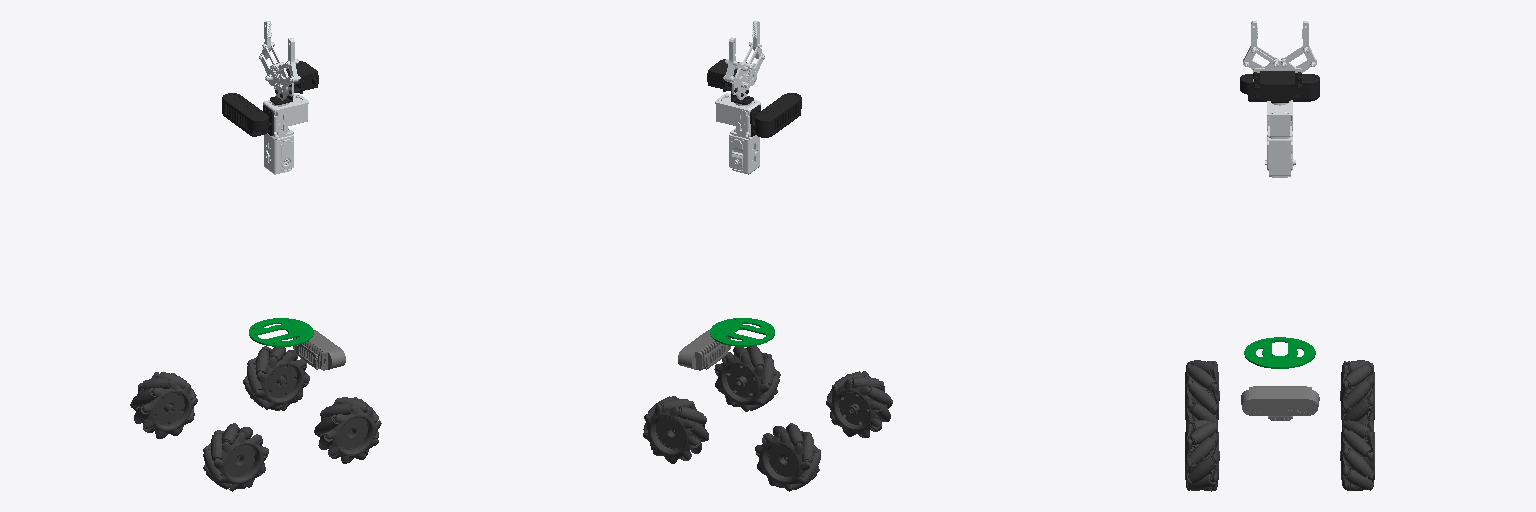
--- What the picture shows (computed from the rendered views, not written in the file) ---
Views: 3 orthographic renders of the robot side by side, from view 1: azimuth 30°, elevation 25°; view 2: azimuth 150°, elevation 25°; view 3: azimuth 270°, elevation 25°.
Robot: M3Pro — 24 links, 23 joints (11 revolute, 5 continuous, 7 fixed); root link base_footprint; default pose: every joint at zero.
Links seen in each view (by area): view 1: rwheel2, lwheel2, rwheel1, lwheel1, arm4, DCW2, arm_base_Link, Camera, arm5; view 2: lwheel2, lwheel1, rwheel2, rwheel1, arm4, DCW2, arm_base_Link, Camera, arm5; view 3: lwheel1, rwheel1, Camera, rwheel2, lwheel2, arm4, arm_base_Link, arm5, DCW2.
Boxes of the visible links, x1,y1,x2,y2 form: rwheel2: [203, 423, 268, 491]; lwheel2: [130, 372, 197, 438]; rwheel1: [314, 397, 381, 463]; lwheel1: [243, 346, 309, 410]; arm4: [263, 94, 308, 174]; DCW2: [222, 93, 273, 136]; arm_base_Link: [249, 318, 313, 346]; Camera: [293, 330, 345, 370]; arm5: [270, 61, 318, 104]; lwheel2: [755, 423, 820, 491]; lwheel1: [643, 396, 708, 463]; rwheel2: [826, 371, 892, 437]; rwheel1: [714, 346, 780, 411]; arm4: [715, 93, 760, 174]; DCW2: [750, 93, 801, 137]; arm_base_Link: [710, 318, 774, 346]; Camera: [678, 330, 730, 370]; arm5: [707, 59, 753, 104]; lwheel1: [1340, 420, 1374, 490]; rwheel1: [1185, 420, 1219, 491]; Camera: [1241, 386, 1319, 420]; rwheel2: [1185, 360, 1219, 425]; lwheel2: [1340, 360, 1374, 423]; arm4: [1265, 100, 1295, 177]; arm_base_Link: [1244, 337, 1315, 368]; arm5: [1253, 71, 1301, 102]; DCW2: [1240, 74, 1319, 101].
Bounding box of the posed robot: 0.239 × 0.2124 × 0.5562 m (x, y, z).
Meshes: 20 distinct files referenced, 16 mesh visuals loaded (16 binary STL); not drawn: 4 (reference not matched to a file when rendering).

robot.urdf — M3Pro:
<?xml version="1.0" encoding="utf-8"?>
<!-- This URDF was automatically created by SolidWorks to URDF Exporter! Originally created by Stephen Brawner ([email redacted]) 
     Commit Version: 1.6.0-1-g15f4949  Build Version: 1.6.7594.29634
     For more information, please see http://wiki.ros.org/sw_urdf_exporter -->
<robot
  name="M3Pro">
  
  <link name="base_footprint">
        <visual>
            <geometry>
                <box size="0.001 0.001 0.001"/>
            </geometry>
        </visual>
  </link>
    
  <joint name="link2footprint" type="fixed">
        <parent link="base_footprint" />
        <child link="base_link" />
        <origin xyz="0 0 0" rpy="0 0 0"/>
  </joint>
  
  <link
    name="base_link">
    <inertial>
      <origin
        xyz="-0.0230945655800945 -0.000624366433481225 0.0924263074305092"
        rpy="0 0 0" />
      <mass
        value="0.870994544286568" />
      <inertia
        ixx="0.000924360334406296"
        ixy="1.83790425775432E-06"
        ixz="-6.57330050239333E-05"
        iyy="0.000965356496722674"
        iyz="4.19061203028733E-07"
        izz="0.00166592475388463" />
    </inertial>
    <visual>
      <origin
        xyz="0 0 0"
        rpy="0 0 0" />
      <geometry>
        <mesh
          filename="package://M3Pro/meshes/base_link.STL" />
      </geometry>
      <material
        name="">
        <color
          rgba="0.501960784313725 0.501960784313725 0.501960784313725 1" />
      </material>
    </visual>
    <collision>
      <origin
        xyz="0 0 0"
        rpy="0 0 0" />
      <geometry>
        <mesh
          filename="package://M3Pro/meshes/base_link.STL" />
      </geometry>
    </collision>
  </link>
  <link
    name="arm1">
    <inertial>
      <origin
        xyz="2.13576742485247E-05 -2.28857785706467E-05 0.0108850983929158"
        rpy="0 0 0" />
      <mass
        value="0.0244386203628613" />
      <inertia
        ixx="4.13079555955957E-06"
        ixy="-1.72852152063151E-08"
        ixz="-1.39537126643453E-11"
        iyy="3.52401933966849E-06"
        iyz="-4.29462638561802E-15"
        izz="6.04483581225878E-06" />
    </inertial>
    <visual>
      <origin
        xyz="0 0 0"
        rpy="0 0 0" />
      <geometry>
        <mesh
          filename="package://M3Pro/meshes/arm1.STL" />
      </geometry>
      <material
        name="">
        <color
          rgba="0.776470588235294 0.756862745098039 0.737254901960784 1" />
      </material>
    </visual>
    <collision>
      <origin
        xyz="0 0 0"
        rpy="0 0 0" />
      <geometry>
        <mesh
          filename="package://M3Pro/meshes/arm1.STL" />
      </geometry>
    </collision>
  </link>
  <joint
    name="arm1_Joint"
    type="revolute">
    <origin
      xyz="0.033617 -1.2421E-05 0.185"
      rpy="6.3751E-05 0 0.028395" />
    <parent
      link="base_link" />
    <child
      link="arm1" />
    <axis
      xyz="0 0 1" />
    <limit
      lower="-1.5708"
      upper="1.5708"
      effort="100"
      velocity="1" />
  </joint>
  <link
    name="arm2">
    <inertial>
      <origin
        xyz="-0.000602027217738395 -9.2755825148514E-05 0.0264032863094033"
        rpy="0 0 0" />
      <mass
        value="0.061498670238648" />
      <inertia
        ixx="2.10648493212753E-05"
        ixy="1.83881276274714E-11"
        ixz="-1.39661642924236E-11"
        iyy="1.64229081716352E-05"
        iyz="3.60299486579141E-08"
        izz="9.72287810088419E-06" />
    </inertial>
    <visual>
      <origin
        xyz="0 0 0"
        rpy="0 0 0" />
      <geometry>
        <mesh
          filename="package://M3Pro/meshes/arm2.STL" />
      </geometry>
      <material
        name="">
        <color
          rgba="0.898039215686275 0.917647058823529 0.929411764705882 1" />
      </material>
    </visual>
    <collision>
      <origin
        xyz="0 0 0"
        rpy="0 0 0" />
      <geometry>
        <mesh
          filename="package://M3Pro/meshes/arm2.STL" />
      </geometry>
    </collision>
  </link>
  <joint
    name="arm2_Joint"
    type="revolute">
    <origin
      xyz="-0.0021522 6.1185E-05 0.033"
      rpy="-6.3725E-05 0 -0.028422" />
    <parent
      link="arm1" />
    <child
      link="arm2" />
    <axis
      xyz="0 -1 -6.3725E-05" />
    <limit
      lower="-1.5708"
      upper="1.5708"
      effort="100"
      velocity="1" />
  </joint>
  <link
    name="arm3">
    <inertial>
      <origin
        xyz="-0.000604373973045174 -7.46161728471504E-05 0.0258332880744843"
        rpy="0 0 0" />
      <mass
        value="0.0614986702381331" />
      <inertia
        ixx="2.10614227624559E-05"
        ixy="-1.2572378834838E-07"
        ixz="9.50458735304178E-10"
        iyy="1.64263399723813E-05"
        iyz="3.55900353840793E-08"
        izz="9.72287285883381E-06" />
    </inertial>
    <visual>
      <origin
        xyz="0 0 0"
        rpy="0 0 0" />
      <geometry>
        <mesh
          filename="package://M3Pro/meshes/arm3.STL" />
      </geometry>
      <material
        name="">
        <color
          rgba="0.898039215686275 0.917647058823529 0.929411764705882 1" />
      </material>
    </visual>
    <collision>
      <origin
        xyz="0 0 0"
        rpy="0 0 0" />
      <geometry>
        <mesh
          filename="package://M3Pro/meshes/arm3.STL" />
      </geometry>
    </collision>
  </link>
  <joint
    name="arm3_Joint"
    type="revolute">
    <origin
      xyz="0 0 0.08285"
      rpy="6.3702E-05 0 0.027102" />
    <parent
      link="arm2" />
    <child
      link="arm3" />
    <axis
      xyz="-0.027098 -0.99963 0" />
    <limit
      lower="-1.5708"
      upper="1.5708"
      effort="100"
      velocity="1" />
  </joint>
  <link
    name="arm4">
    <inertial>
      <origin
        xyz="0.00266200549544014 -5.48340040400364E-05 0.0318372301190443"
        rpy="0 0 0" />
      <mass
        value="0.0796731880981648" />
      <inertia
        ixx="1.74813997707965E-05"
        ixy="7.13964256475848E-11"
        ixz="-3.68971805126897E-07"
        iyy="1.97458440715167E-05"
        iyz="3.56144432379185E-08"
        izz="1.24210495582304E-05" />
    </inertial>
    <visual>
      <origin
        xyz="0 0 0"
        rpy="0 0 0" />
      <geometry>
        <mesh
          filename="package://M3Pro/meshes/arm4.STL" />
      </geometry>
      <material
        name="">
        <color
          rgba="0.898039215686275 0.917647058823529 0.929411764705882 1" />
      </material>
    </visual>
    <collision>
      <origin
        xyz="0 0 0"
        rpy="0 0 0" />
      <geometry>
        <mesh
          filename="package://M3Pro/meshes/arm4.STL" />
      </geometry>
    </collision>
  </link>
  <joint
    name="arm4_Joiint"
    type="revolute">
    <origin
      xyz="0 0 0.08285"
      rpy="0 0 -0.027075" />
    <parent
      link="arm3" />
    <child
      link="arm4" />
    <axis
      xyz="-2.6392E-05 -1 0" />
    <limit
      lower="-1.5708"
      upper="1.5708"
      effort="100"
      velocity="1" />
  </joint>
  <link
    name="arm5">
    <inertial>
      <origin
        xyz="0.0185860770163253 -0.00247043277342297 0.02651885056664"
        rpy="0 0 0" />
      <mass
        value="0.0410487746889131" />
      <inertia
        ixx="5.48142441634619E-06"
        ixy="-1.68884783349536E-08"
        ixz="-2.34748082215953E-08"
        iyy="1.91426924767358E-06"
        iyz="6.10349739295658E-13"
        izz="5.25321280573642E-06" />
    </inertial>
    <visual>
      <origin
        xyz="0 0 0"
        rpy="0 0 0" />
      <geometry>
        <mesh
          filename="package://M3Pro/meshes/arm5.STL" />
      </geometry>
      <material
        name="">
        <color
          rgba="0.203921568627451 0.203921568627451 0.203921568627451 1" />
      </material>
    </visual>
    <collision>
      <origin
        xyz="0 0 0"
        rpy="0 0 0" />
      <geometry>
        <mesh
          filename="package://M3Pro/meshes/arm5.STL" />
      </geometry>
    </collision>
  </link>
  <joint
    name="arm5_Joint"
    type="revolute">
    <origin
      xyz="0.00057305 0 0.074815"
      rpy="0 0 0" />
    <parent
      link="arm4" />
    <child
      link="arm5" />
    <axis
      xyz="0 -1 0" />
    <limit
      lower="-1.5708"
      upper="3.1416"
      effort="100"
      velocity="1" />
  </joint>
  <link
    name="rlink1">
    <inertial>
      <origin
        xyz="0.00808925422025075 0.000355297443366931 -0.000464636431050911"
        rpy="0 0 0" />
      <mass
        value="0.00469661998528202" />
      <inertia
        ixx="1.02155544192725E-07"
        ixy="1.52484505407808E-08"
        ixz="-5.46876412347999E-14"
        iyy="4.52970831763651E-07"
        iyz="2.17247345042744E-13"
        izz="5.45544786553635E-07" />
    </inertial>
    <visual>
      <origin
        xyz="0 0 0"
        rpy="0 0 0" />
      <geometry>
        <mesh
          filename="package://M3Pro/meshes/rlink1.STL" />
      </geometry>
      <material
        name="">
        <color
          rgba="0.898039215686275 0.917647058823529 0.929411764705882 1" />
      </material>
    </visual>
    <collision>
      <origin
        xyz="0 0 0"
        rpy="0 0 0" />
      <geometry>
        <mesh
          filename="package://M3Pro/meshes/rlink1.STL" />
      </geometry>
    </collision>
  </link>
  <joint
    name="rlink1_Joint"
    type="revolute">
    <origin
      xyz="-0.0047503 -0.012625 0.029275"
      rpy="1.5708 -0.60409 -1.5708" />
    <parent
      link="arm5" />
    <child
      link="rlink1" />
    <axis
      xyz="0 0 -1" />
    <limit
      lower="-1.54"
      upper="0"
      effort="100"
      velocity="1" />
  </joint>
  <link
    name="rlink2">
    <inertial>
      <origin
        xyz="0.0225651191673617 0.00616269153903409 -0.0050000000000042"
        rpy="0 0 0" />
      <mass
        value="0.0061448729710299" />
      <inertia
        ixx="8.70635496412126E-08"
        ixy="-2.41958577832852E-07"
        ixz="-4.82763186156989E-21"
        iyy="1.49816948769928E-06"
        iyz="-8.06090738107193E-22"
        izz="1.57601572788395E-06" />
    </inertial>
    <visual>
      <origin
        xyz="0 0 0"
        rpy="0 0 0" />
      <geometry>
        <mesh
          filename="package://M3Pro/meshes/rlink2.STL" />
      </geometry>
      <material
        name="">
        <color
          rgba="0.898039215686275 0.917647058823529 0.929411764705882 1" />
      </material>
    </visual>
    <collision>
      <origin
        xyz="0 0 0"
        rpy="0 0 0" />
      <geometry>
        <mesh
          filename="package://M3Pro/meshes/rlink2.STL" />
      </geometry>
    </collision>
  </link>
  <joint
    name="rlink2_Joint"
    type="continuous">
    <origin
      xyz="0.03 0 0.001"
      rpy="0 0 0.9667" />
    <parent
      link="rlink1" />
    <child
      link="rlink2" />
    <axis
      xyz="0 0 1" />
    <mimic
      joint="rlink1_Joint"
      multiplier="1"
      offset="0" />
  </joint>
  <link
    name="llink1">
    <inertial>
      <origin
        xyz="0.00884602685100822 -0.000341813272146108 -0.00016945594279958"
        rpy="0 0 0" />
      <mass
        value="0.00426700564861881" />
      <inertia
        ixx="8.84336001135263E-08"
        ixy="-1.30950315021427E-08"
        ixz="2.18756702456485E-14"
        iyy="4.55511896537778E-07"
        iyz="1.2193651328645E-14"
        izz="5.36665215268909E-07" />
    </inertial>
    <visual>
      <origin
        xyz="0 0 0"
        rpy="0 0 0" />
      <geometry>
        <mesh
          filename="package://M3Pro/meshes/llink1.STL" />
      </geometry>
      <material
        name="">
        <color
          rgba="0.898039215686275 0.917647058823529 0.929411764705882 1" />
      </material>
    </visual>
    <collision>
      <origin
        xyz="0 0 0"
        rpy="0 0 0" />
      <geometry>
        <mesh
          filename="package://M3Pro/meshes/llink1.STL" />
      </geometry>
    </collision>
  </link>
  <joint
    name="llink1_Joint"
    type="continuous">
    <origin
      xyz="-0.0044997 0.012375 0.029275"
      rpy="-1.5708 -0.60318 1.5708" />
    <parent
      link="arm5" />
    <child
      link="llink1" />
    <axis
      xyz="0 0 1" />
    <mimic
      joint="rlink1_Joint"
      multiplier="1"
      offset="0" />
  </joint>
  <link
    name="llink2">
    <inertial>
      <origin
        xyz="0.0226281369502883 -0.00592712309529711 -0.00525000000000398"
        rpy="0 0 0" />
      <mass
        value="0.0061448729710299" />
      <inertia
        ixx="8.21725042549684E-08"
        ixy="2.27196496174757E-07"
        ixz="-9.0829521896073E-21"
        iyy="1.50306053308553E-06"
        iyz="1.34351902937085E-21"
        izz="1.57601572788395E-06" />
    </inertial>
    <visual>
      <origin
        xyz="0 0 0"
        rpy="0 0 0" />
      <geometry>
        <mesh
          filename="package://M3Pro/meshes/llink2.STL" />
      </geometry>
      <material
        name="">
        <color
          rgba="0.898039215686275 0.917647058823529 0.929411764705882 1" />
      </material>
    </visual>
    <collision>
      <origin
        xyz="0 0 0"
        rpy="0 0 0" />
      <geometry>
        <mesh
          filename="package://M3Pro/meshes/llink2.STL" />
      </geometry>
    </collision>
  </link>
  <joint
    name="llink2_Joint"
    type="continuous">
    <origin
      xyz="0.03 0 0.00125"
      rpy="0 0 -0.96762" />
    <parent
      link="llink1" />
    <child
      link="llink2" />
    <axis
      xyz="0 0 1" />
    <mimic
      joint="rlink1_Joint"
      multiplier="-1"
      offset="0" />
  </joint>
  <link
    name="rlink3">
    <inertial>
      <origin
        xyz="0.0147913116377826 -6.00954347396154E-09 -0.00271410065781013"
        rpy="0 0 0" />
      <mass
        value="0.00270971831665017" />
      <inertia
        ixx="9.18474957109399E-09"
        ixy="-3.01596710140765E-18"
        ixz="-2.75331334941317E-20"
        iyy="1.63607734900967E-07"
        iyz="-7.81375037841199E-16"
        izz="1.63254833713142E-07" />
    </inertial>
    <visual>
      <origin
        xyz="0 0 0"
        rpy="0 0 0" />
      <geometry>
        <mesh
          filename="package://M3Pro/meshes/rlink3.STL" />
      </geometry>
      <material
        name="">
        <color
          rgba="0.898039215686275 0.917647058823529 0.929411764705882 1" />
      </material>
    </visual>
    <collision>
      <origin
        xyz="0 0 0"
        rpy="0 0 0" />
      <geometry>
        <mesh
          filename="package://M3Pro/meshes/rlink3.STL" />
      </geometry>
    </collision>
  </link>
  <joint
    name="rlink3_Joint"
    type="continuous">
    <origin
      xyz="-0.0045001 -0.0044999 0.047275"
      rpy="1.5708 -0.61261 -1.5708" />
    <parent
      link="arm5" />
    <child
      link="rlink3" />
    <axis
      xyz="0 0 1" />
    <mimic
      joint="rlink1_Joint"
      multiplier="-1"
      offset="0" />
  </joint>
  <link
    name="llink3">
    <inertial>
      <origin
        xyz="0.0147913116377242 -8.49320613838245E-15 -0.00271410065781674"
        rpy="0 0 0" />
      <mass
        value="0.00270971831665017" />
      <inertia
        ixx="9.18474957533229E-09"
        ixy="-1.99555668417193E-19"
        ixz="4.30043464580738E-20"
        iyy="1.63607734896731E-07"
        iyz="1.5019648698602E-20"
        izz="1.63254833713141E-07" />
    </inertial>
    <visual>
      <origin
        xyz="0 0 0"
        rpy="0 0 0" />
      <geometry>
        <mesh
          filename="package://M3Pro/meshes/llink3.STL" />
      </geometry>
      <material
        name="">
        <color
          rgba="0.898039215686275 0.917647058823529 0.929411764705882 1" />
      </material>
    </visual>
    <collision>
      <origin
        xyz="0 0 0"
        rpy="0 0 0" />
      <geometry>
        <mesh
          filename="package://M3Pro/meshes/llink3.STL" />
      </geometry>
    </collision>
  </link>
  <joint
    name="llink3_Joint"
    type="continuous">
    <origin
      xyz="-0.0044999 0.0045001 0.047275"
      rpy="-1.5708 -0.61516 1.5708" />
    <parent
      link="arm5" />
    <child
      link="llink3" />
    <axis
      xyz="0 0 1" />
    <mimic
      joint="rlink1_Joint"
      multiplier="1"
      offset="0" />
  </joint>
  <link
    name="Gripping">
    <inertial>
      <origin
        xyz="-0.065246396386458 -0.00180281818739334 -0.00162356166886771"
        rpy="0 0 0" />
      <mass
        value="0.0122493178431464" />
      <inertia
        ixx="2.39268476633204E-06"
        ixy="2.46226021055361E-08"
        ixz="-2.26591157073366E-11"
        iyy="1.54800679852484E-06"
        iyz="-2.45567123669388E-10"
        izz="3.922338530366E-06" />
    </inertial>
    <visual>
      <origin
        xyz="0 0 0"
        rpy="0 0 0" />
      <geometry>
        <mesh
          filename="package://M3Pro/meshes/Gripping.STL" />
      </geometry>
      <material
        name="">
        <color
          rgba="0.898039215686275 0.917647058823529 0.929411764705882 1" />
      </material>
    </visual>
    <collision>
      <origin
        xyz="0 0 0"
        rpy="0 0 0" />
      <geometry>
        <mesh
          filename="package://M3Pro/meshes/Gripping.STL" />
      </geometry>
    </collision>
  </link>
  <joint
    name="Gripping_Joint"
    type="fixed">
    <origin
      xyz="-0.00062499 0.00023987 0.093235"
      rpy="-0.041648 -1.5708 0.041619" />
    <parent
      link="arm5" />
    <child
      link="Gripping" />
    <axis
      xyz="0 0 0" />
  </joint>
  <link
    name="DCW2">
    <inertial>
      <origin
        xyz="-0.0010931061799368 -0.00121369453546972 -0.00157232793977877"
        rpy="0 0 0" />
      <mass
        value="0.0499103575203649" />
      <inertia
        ixx="3.00280511823901E-05"
        ixy="4.70947453750842E-07"
        ixz="-2.03921169866268E-08"
        iyy="5.42980165740292E-06"
        iyz="7.10569257695082E-07"
        izz="2.96703865656498E-05" />
    </inertial>
    <visual>
      <origin
        xyz="0 0 0"
        rpy="0 0 0" />
      <geometry>
        <mesh
          filename="package://M3Pro/meshes/DCW2.STL" />
      </geometry>
      <material
        name="">
        <color
          rgba="0.203921568627451 0.203921568627451 0.203921568627451 1" />
      </material>
    </visual>
    <collision>
      <origin
        xyz="0 0 0"
        rpy="0 0 0" />
      <geometry>
        <mesh
          filename="package://M3Pro/meshes/DCW2.STL" />
      </geometry>
    </collision>
  </link>
  <joint
    name="DCW2_Joint"
    type="fixed">
    <origin
      xyz="-0.0483883323542816 0.00245180097510241 0.0671900000306381"
      rpy="1.84287098025439 -1.57079631189374 -1.81447538896515" />
    <parent
      link="arm4" />
    <child
      link="DCW2" />
    <axis
      xyz="0 0 0" />
  </joint>
  <link
    name="Camera">
    <inertial>
      <origin
        xyz="-0.00515993234293903 0.0171562859692142 -5.08017211667516E-05"
        rpy="0 0 0" />
      <mass
        value="0.0538583185137286" />
      <inertia
        ixx="3.00166743314331E-05"
        ixy="1.20730583158248E-07"
        ixz="-3.90056689663612E-08"
        iyy="3.10135562801751E-05"
        iyz="2.26188772216957E-09"
        izz="5.78331989998345E-06" />
    </inertial>
    <visual>
      <origin
        xyz="0 0 0"
        rpy="0 0 0" />
      <geometry>
        <mesh
          filename="package://M3Pro/meshes/Camera.STL" />
      </geometry>
      <material
        name="">
        <color
          rgba="0.501960784313725 0.501960784313725 0.501960784313725 1" />
      </material>
    </visual>
    <collision>
      <origin
        xyz="0 0 0"
        rpy="0 0 0" />
      <geometry>
        <mesh
          filename="package://M3Pro/meshes/Camera.STL" />
      </geometry>
    </collision>
  </link>
  <joint
    name="Camera_Joint"
    type="revolute">
    <origin
      xyz="0.0909154688773379 0.000198272120369507 0.0934842113675051"
      rpy="1.5707963267949 0 0" />
    <parent
      link="base_link" />
    <child
      link="Camera" />
    <axis
      xyz="0 0 -1" />
    <limit
      lower="0"
      upper="0"
      effort="0"
      velocity="0" />
  </joint>
  <link
    name="imu_frame">
    <inertial>
      <origin
        xyz="-2.05401095824953E-06 1.7379895593389E-06 0.080"
        rpy="0 0 0" />
      <mass
        value="0.0973137194820634" />
      <inertia
        ixx="4.4524583220077E-05"
        ixy="-1.31175451437957E-10"
        ixz="2.4691417638339E-09"
        iyy="4.45241370387487E-05"
        iyz="-4.9776391261432E-10"
        izz="7.45963443980609E-05" />
    </inertial>
    <visual>
      <origin
        xyz="0 0 0"
        rpy="0 0 0" />
      
      <material
        name="">
        <color
          rgba="0.298039215686275 0.298039215686275 0.298039215686275 1" />
      </material>
    </visual>
    <collision>
      <origin
        xyz="0 0 0"
        rpy="0 0 0" />
      
    </collision>
  </link>
  <joint
    name="imu_frame_Joint"
    type="fixed">
    <origin
      xyz="0.06 0.0 0.080"
      rpy="0 0 0" />
    <parent
      link="base_link" />
    <child
      link="imu_frame" />
    <axis
      xyz="0 0 0" />
    <limit
      lower="0"
      upper="0"
      effort="0"
      velocity="0" />
  </joint>
  
  
  
  
  <link
    name="laser0_frame">
    <inertial>
      <origin
        xyz="-0.11617 0.09156 0.1253"
        rpy="0 0 0" />
      <mass
        value="0.0973137194820634" />
      <inertia
        ixx="4.4524583220077E-05"
        ixy="-1.31175451437957E-10"
        ixz="2.4691417638339E-09"
        iyy="4.45241370387487E-05"
        iyz="-4.9776391261432E-10"
        izz="7.45963443980609E-05" />
    </inertial>
    <visual>
      <origin
        xyz="0 0 0"
        rpy="0 0 0" />
      
      <material
        name="">
        <color
          rgba="0.298039215686275 0.298039215686275 0.298039215686275 1" />
      </material>
    </visual>
    <collision>
      <origin
        xyz="0 0 0"
        rpy="0 0 0" />
      
    </collision>
  </link>
  <joint
    name="laser_frame_Joint"
    type="fixed">
    <origin
      xyz="-0.11617 0.09156 0.1253"
      rpy="0 0 0" />
    <parent
      link="base_link" />
    <child
      link="laser0_frame" />
    <axis
      xyz="0 0 0" />
    <limit
      lower="0"
      upper="0"
      effort="0"
      velocity="0" />
  </joint>
  
  
  
  
  <link
    name="laser1_frame">
    <inertial>
      <origin
        xyz="0.10766 -0.09078 0.1253"
        rpy="0 0 0" />
      <mass
        value="0.0973137194820634" />
      <inertia
        ixx="4.4524583220077E-05"
        ixy="-1.31175451437957E-10"
        ixz="2.4691417638339E-09"
        iyy="4.45241370387487E-05"
        iyz="-4.9776391261432E-10"
        izz="7.45963443980609E-05" />
    </inertial>
    <visual>
      <origin
        xyz="0 0 0"
        rpy="0 0 0" />
      
      <material
        name="">
        <color
          rgba="0.298039215686275 0.298039215686275 0.298039215686275 1" />
      </material>
    </visual>
    <collision>
      <origin
        xyz="0 0 0"
        rpy="0 0 0" />
      
    </collision>
  </link>
  <joint
    name="laser1_frame_Joint"
    type="fixed">
    <origin
      xyz="0.10766 -0.09078 0.1253"
      rpy="0 0 0" />
    <parent
      link="base_link" />
    <child
      link="laser1_frame" />
    <axis
      xyz="0 0 0" />
    <limit
      lower="0"
      upper="0"
      effort="0"
      velocity="0" />
  </joint>
  
  
  
  <link
    name="lwheel1">
    <inertial>
      <origin
        xyz="-2.05401095824953E-06 1.7379895593389E-06 0.0108532997143464"
        rpy="0 0 0" />
      <mass
        value="0.0973137194820634" />
      <inertia
        ixx="4.4524583220077E-05"
        ixy="-1.31175451437957E-10"
        ixz="2.4691417638339E-09"
        iyy="4.45241370387487E-05"
        iyz="-4.9776391261432E-10"
        izz="7.45963443980609E-05" />
    </inertial>
    <visual>
      <origin
        xyz="0 0 0"
        rpy="0 0 0" />
      <geometry>
        <mesh
          filename="package://M3Pro/meshes/lwheel1.STL" />
      </geometry>
      <material
        name="">
        <color
          rgba="0.298039215686275 0.298039215686275 0.298039215686275 1" />
      </material>
    </visual>
    <collision>
      <origin
        xyz="0 0 0"
        rpy="0 0 0" />
      <geometry>
        <mesh
          filename="package://M3Pro/meshes/lwheel1.STL" />
      </geometry>
    </collision>
  </link>
  <joint
    name="lwheel1_Joint"
    type="revolute">
    <origin
      xyz="0.0775753787975409 0.09775 0.0399999999999998"
      rpy="1.5707963267949 0 0" />
    <parent
      link="base_link" />
    <child
      link="lwheel1" />
    <axis
      xyz="0 0 -1" />
    <limit
      lower="0"
      upper="0"
      effort="0"
      velocity="0" />
  </joint>
  <link
    name="lwheel2">
    <inertial>
      <origin
        xyz="2.42861370669534E-06 -1.02166504497431E-06 0.0108534142995862"
        rpy="0 0 0" />
      <mass
        value="0.0973122316398678" />
      <inertia
        ixx="4.45239800389606E-05"
        ixy="5.44905586072809E-10"
        ixz="-1.65438105294921E-09"
        iyy="4.4523414197166E-05"
        iyz="1.94456478478346E-09"
        izz="7.45956879489215E-05" />
    </inertial>
    <visual>
      <origin
        xyz="0 0 0"
        rpy="0 0 0" />
      <geometry>
        <mesh
          filename="package://M3Pro/meshes/lwheel2.STL" />
      </geometry>
      <material
        name="">
        <color
          rgba="0.298039215686275 0.298039215686275 0.298039215686275 1" />
      </material>
    </visual>
    <collision>
      <origin
        xyz="0 0 0"
        rpy="0 0 0" />
      <geometry>
        <mesh
          filename="package://M3Pro/meshes/lwheel2.STL" />
      </geometry>
    </collision>
  </link>
  <joint
    name="lwheel2_Joint"
    type="revolute">
    <origin
      xyz="-0.0814246212024597 0.0977499999999995 0.0399976951545867"
      rpy="1.5707963267949 0 0" />
    <parent
      link="base_link" />
    <child
      link="lwheel2" />
    <axis
      xyz="0 0 -1" />
    <limit
      lower="0"
      upper="0"
      effort="0"
      velocity="0" />
  </joint>
  <link
    name="rwheel1">
    <inertial>
      <origin
        xyz="2.62390154395775E-07 -2.62170342759521E-06 0.0108534192340525"
        rpy="0 0 0" />
      <mass
        value="0.0973120453861561" />
      <inertia
        ixx="4.45238867717884E-05"
        ixy="-5.05986927522554E-10"
        ixz="1.0621208678827E-09"
        iyy="4.45233693169386E-05"
        iyz="2.30774857834867E-09"
        izz="7.45955722950589E-05" />
    </inertial>
    <visual>
      <origin
        xyz="0 0 0"
        rpy="0 0 0" />
      <geometry>
        <mesh
          filename="package://M3Pro/meshes/rwheel1.STL" />
      </geometry>
      <material
        name="">
        <color
          rgba="0.298039215686275 0.298039215686275 0.298039215686275 1" />
      </material>
    </visual>
    <collision>
      <origin
        xyz="0 0 0"
        rpy="0 0 0" />
      <geometry>
        <mesh
          filename="package://M3Pro/meshes/rwheel1.STL" />
      </geometry>
    </collision>
  </link>
  <joint
    name="rwheel1_Joint"
    type="revolute">
    <origin
      xyz="0.0775753787975429 -0.0977499999999993 0.0400000000000004"
      rpy="-1.5707963267949 0 0" />
    <parent
      link="base_link" />
    <child
      link="rwheel1" />
    <axis
      xyz="0 0 -1" />
    <limit
      lower="0"
      upper="0"
      effort="0"
      velocity="0" />
  </joint>
  <link
    name="rwheel2">
    <inertial>
      <origin
        xyz="-2.6913354038427E-06 -2.97755697348245E-07 0.0108533056312037"
        rpy="0 0 0" />
      <mass
        value="0.097313675800621" />
      <inertia
        ixx="4.4524453695162E-05"
        ixy="2.2715730620874E-10"
        ixz="2.05834405085449E-09"
        iyy="4.45242493323169E-05"
        iyz="1.44511222079578E-09"
        izz="7.45963268192702E-05" />
    </inertial>
    <visual>
      <origin
        xyz="0 0 0"
        rpy="0 0 0" />
      <geometry>
        <mesh
          filename="package://M3Pro/meshes/rwheel2.STL" />
      </geometry>
      <material
        name="">
        <color
          rgba="0.298039215686275 0.298039215686275 0.298039215686275 1" />
      </material>
    </visual>
    <collision>
      <origin
        xyz="0 0 0"
        rpy="0 0 0" />
      <geometry>
        <mesh
          filename="package://M3Pro/meshes/rwheel2.STL" />
      </geometry>
    </collision>
  </link>
  <joint
    name="rwheel2_Joint"
    type="revolute">
    <origin
      xyz="-0.0814246212024577 -0.0977500000000009 0.0399976951545873"
      rpy="-1.5707963267949 0 0" />
    <parent
      link="base_link" />
    <child
      link="rwheel2" />
    <axis
      xyz="0 0 -1" />
    <limit
      lower="0"
      upper="0"
      effort="0"
      velocity="0" />
  </joint>
  <link
    name="arm_base_Link">
    <inertial>
      <origin
        xyz="0.00204023926194582 -5.80026689164584E-05 -0.00100000000000003"
        rpy="0 0 0" />
      <mass
        value="0.00784879332432182" />
      <inertia
        ixx="3.56236585757393E-06"
        ixy="-1.35032184567405E-10"
        ixz="-1.66362055886718E-21"
        iyy="3.55761995010773E-06"
        iyz="-1.11258635821738E-20"
        izz="7.11475327879878E-06" />
    </inertial>
    <visual>
      <origin
        xyz="0 0 0"
        rpy="0 0 0" />
      <geometry>
        <mesh
          filename="package://M3Pro/meshes/arm_base_Link.STL" />
      </geometry>
      <material
        name="">
        <color
          rgba="0 0.627450980392157 0.235294117647059 1" />
      </material>
    </visual>
    <collision>
      <origin
        xyz="0 0 0"
        rpy="0 0 0" />
      <geometry>
        <mesh
          filename="package://M3Pro/meshes/arm_base_Link.STL" />
      </geometry>
    </collision>
  </link>
  <joint
    name="arm_base_Joint"
    type="fixed">
    <origin
      xyz="0.033617 -1.0031E-05 0.1475"
      rpy="6.3751E-05 0 0.028395" />
    <parent
      link="base_link" />
    <child
      link="arm_base_Link" />
    <axis
      xyz="0 0 0" />
  </joint>
</robot>
